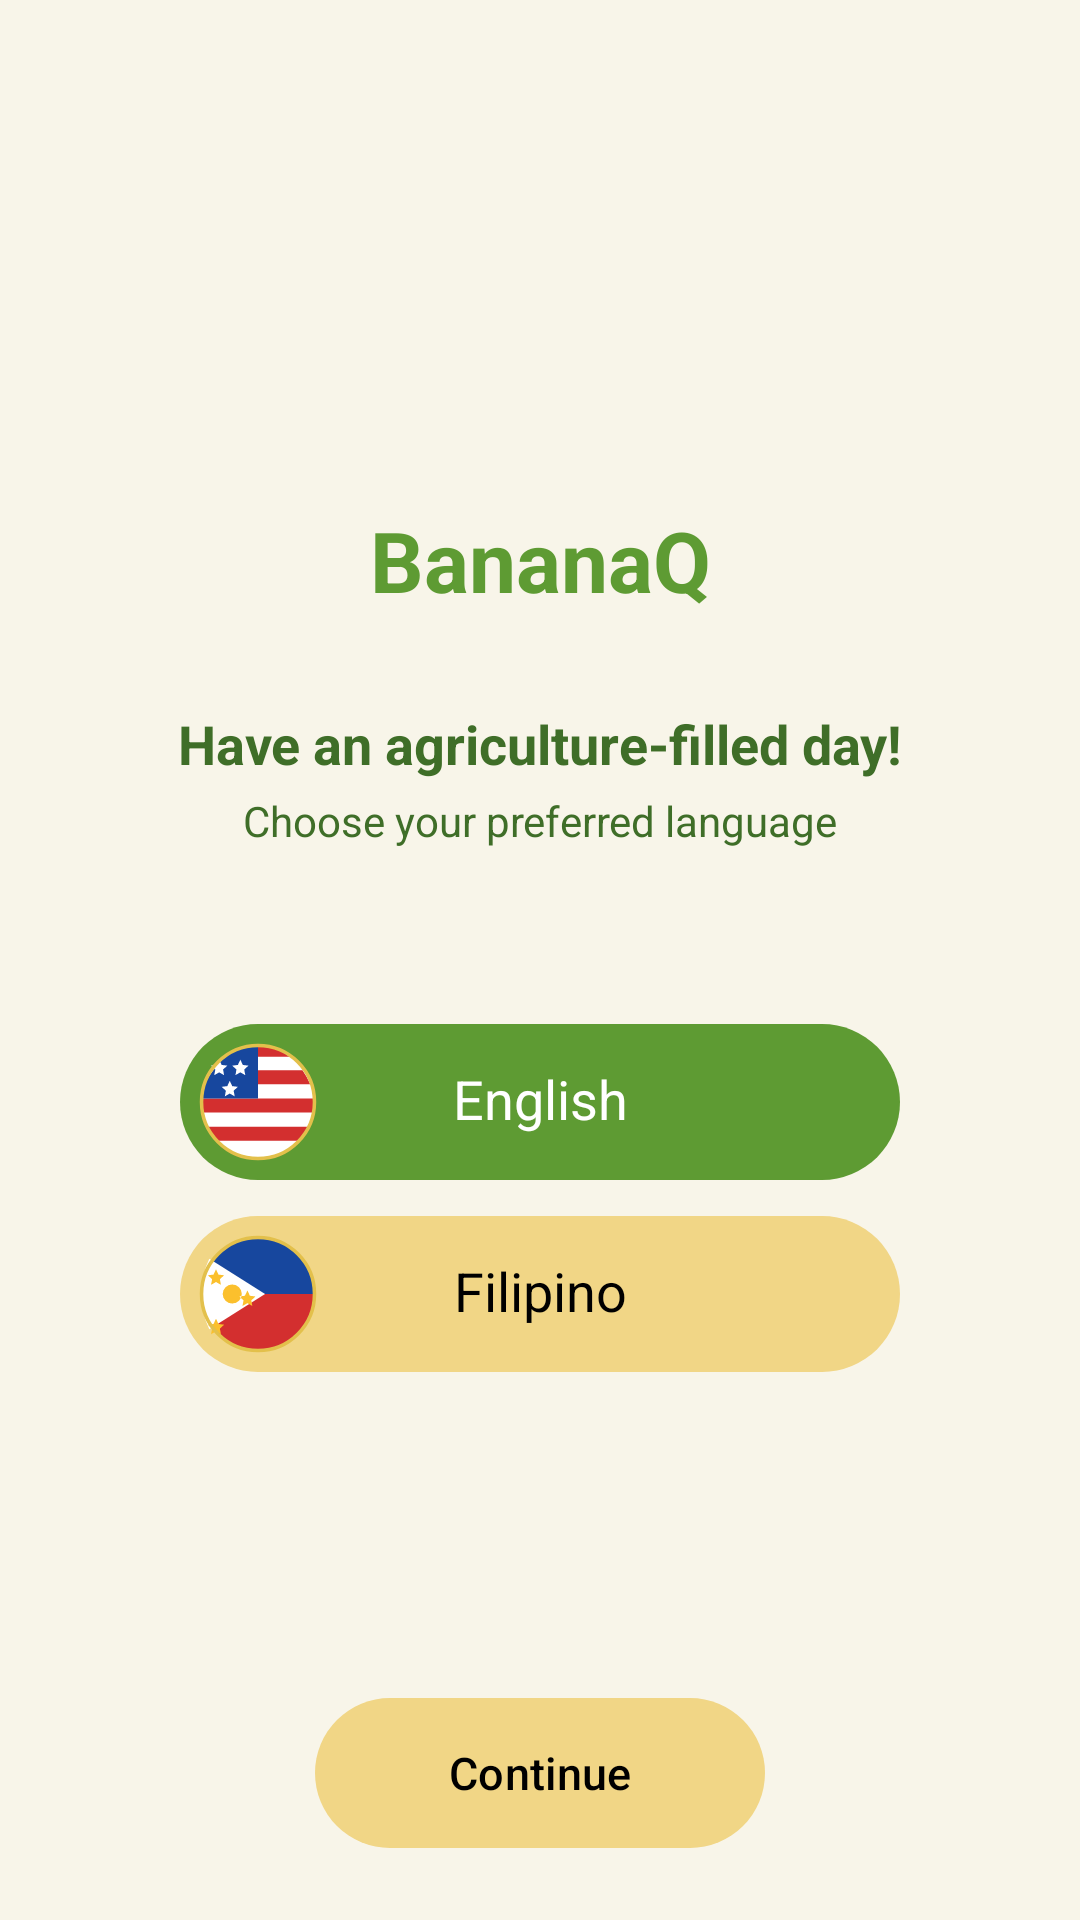

Locate icon controls on the screen. Image size 1080px×1920px, boxes as (left=x1, top=y1, right=x2, bottom=y2).
flag ph circle: (left=200, top=1236, right=316, bottom=1352)
flag us circle: (left=199, top=1043, right=317, bottom=1161)
